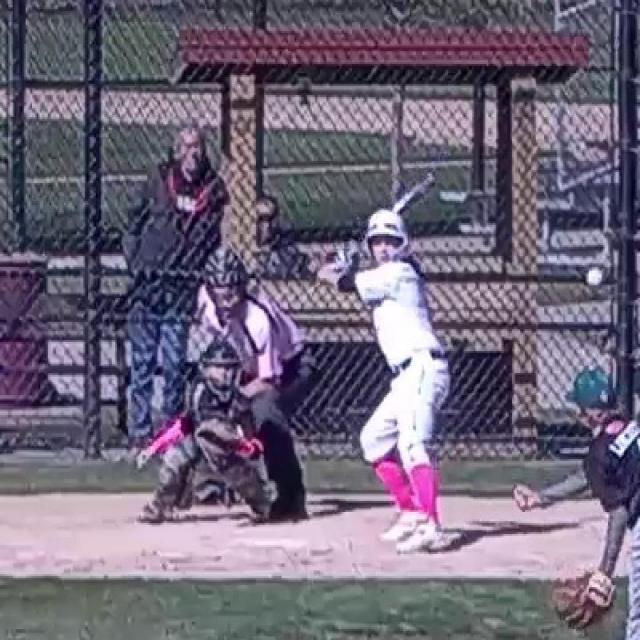baseball: (586, 269, 602, 285)
